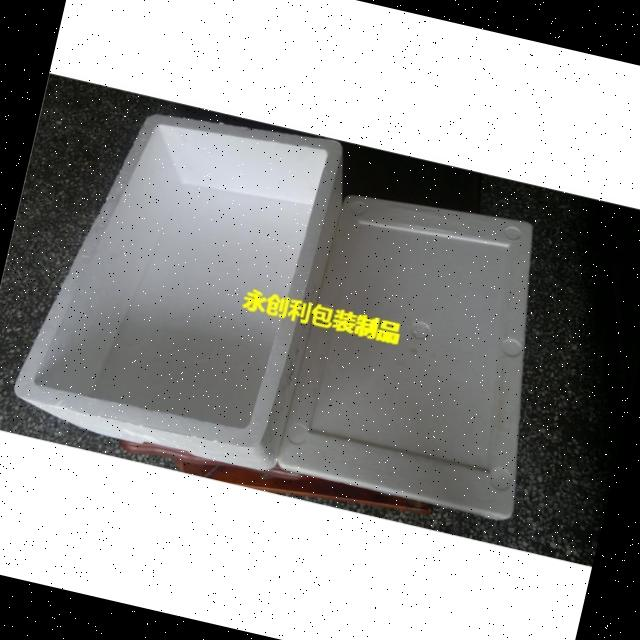styrofoam: (3, 82, 585, 542), (274, 177, 578, 526)
